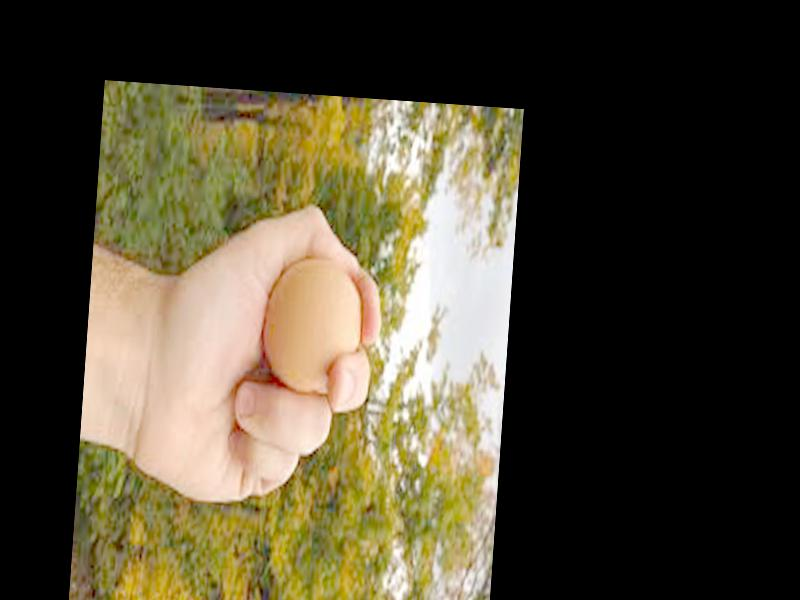Eggs: (259, 256, 364, 401)
